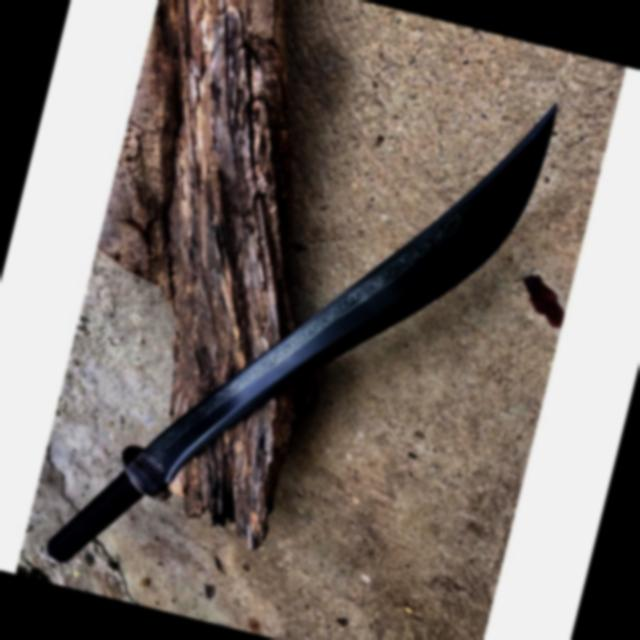long sword: (31, 0, 568, 640)
